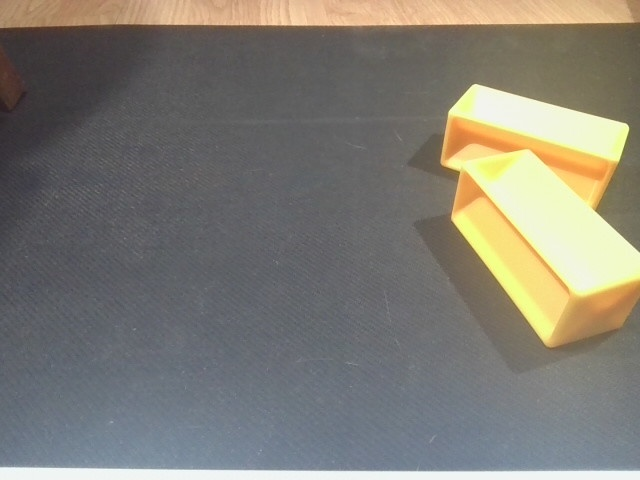YellowSample: (447, 146, 640, 350), (437, 81, 632, 212)
